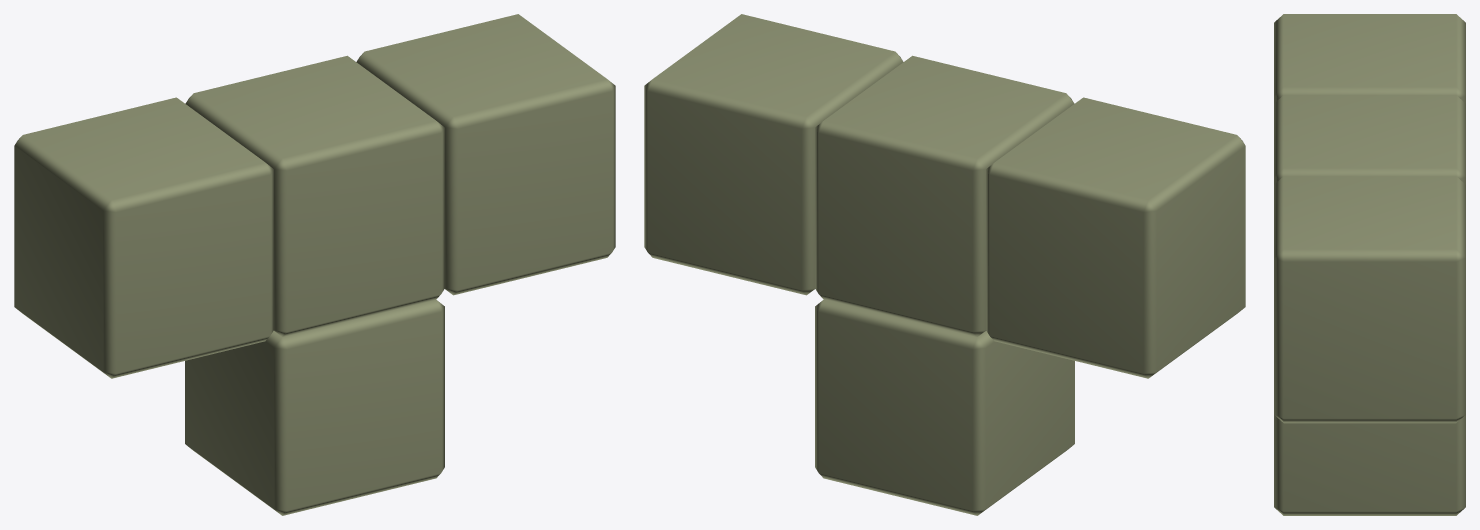
File: FinEarth2.fbx
3 views of the same model, side by side, from view 1: azimuth 30°, elevation 25°; view 2: azimuth 150°, elevation 25°; view 3: azimuth 270°, elevation 25° (orthographic). The views are drawn at different scales.
Visible parts, largest first — view 1: geo1; view 2: geo1; view 3: geo1.
Part boxes in pixels (x1,y1,x2,y2): geo1: (14, 14, 615, 515); geo1: (644, 14, 1245, 515); geo1: (1274, 14, 1465, 515).
Size of the model in its own units: 3 by 2 by 1.
